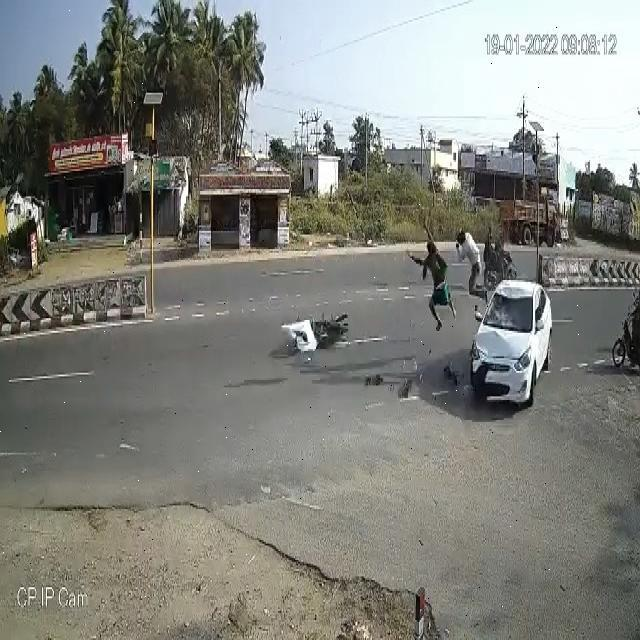accident: (471, 282, 557, 407), (292, 306, 355, 350)
